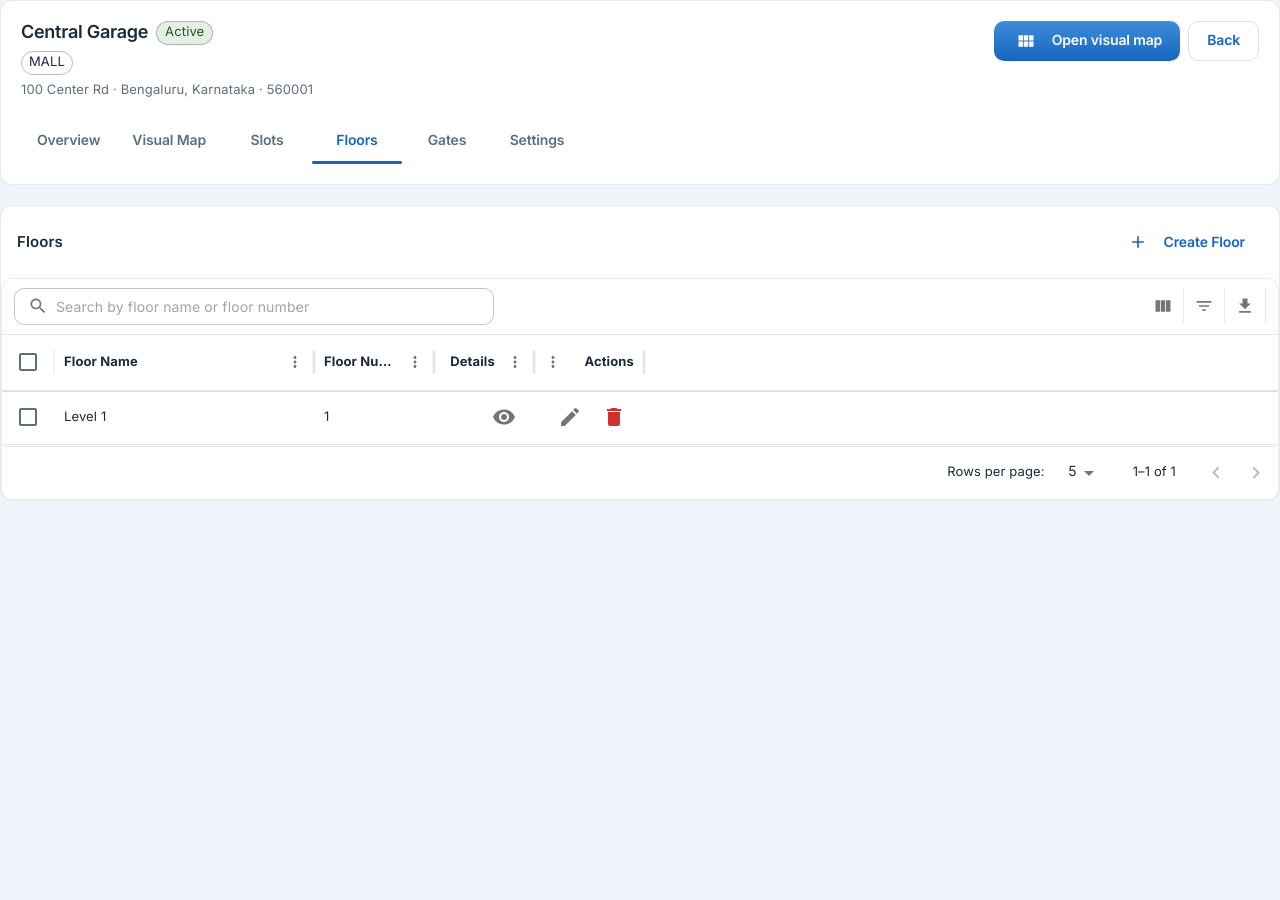
ParkingLotDetailsPage › deletes a floor on floors tab
Expected: the text "Level 1" is shown, [64,409,106,425]
Click the button named "delete": (614, 417) [594,397,634,437]
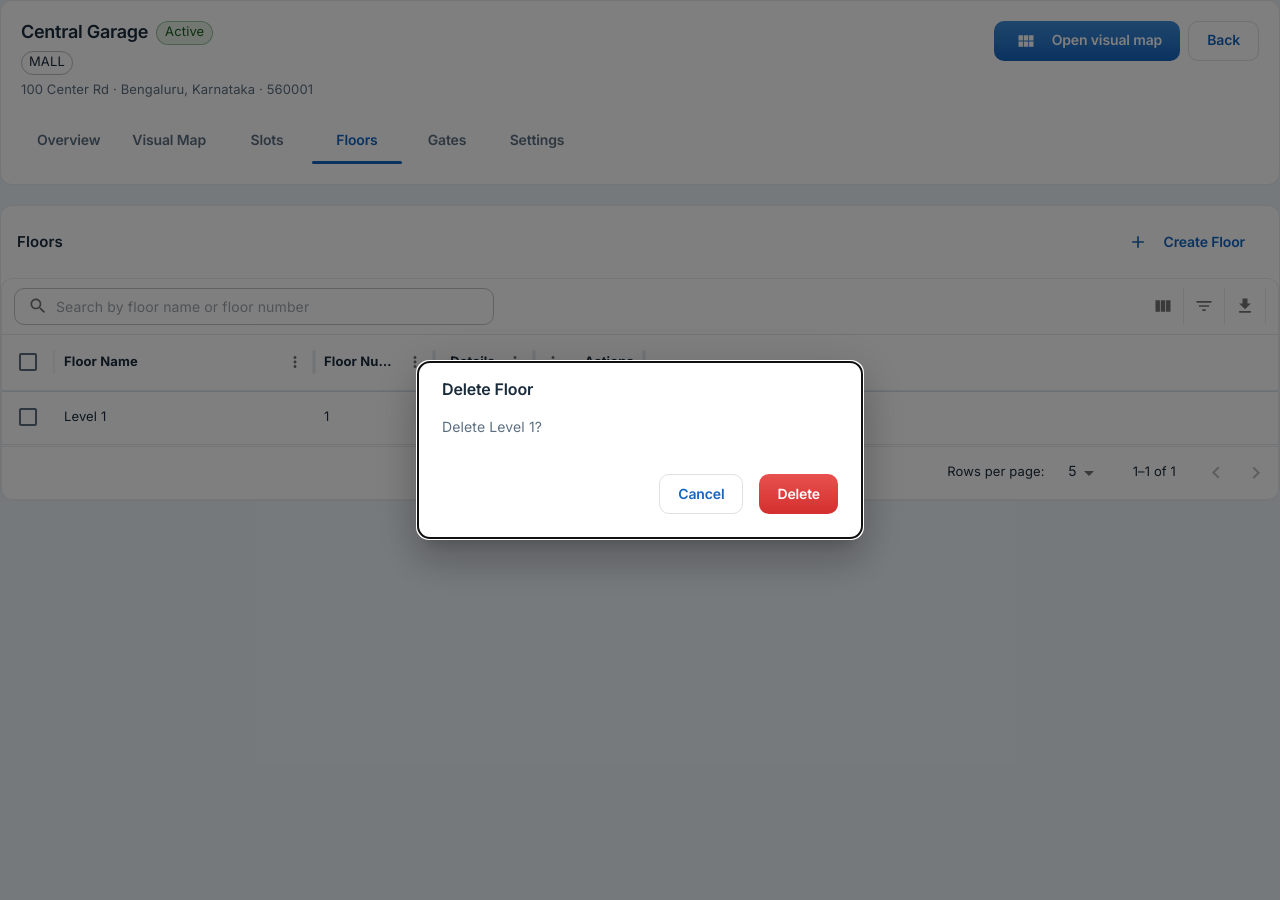
Click the button "Delete": (799, 494) [759,474,838,514]
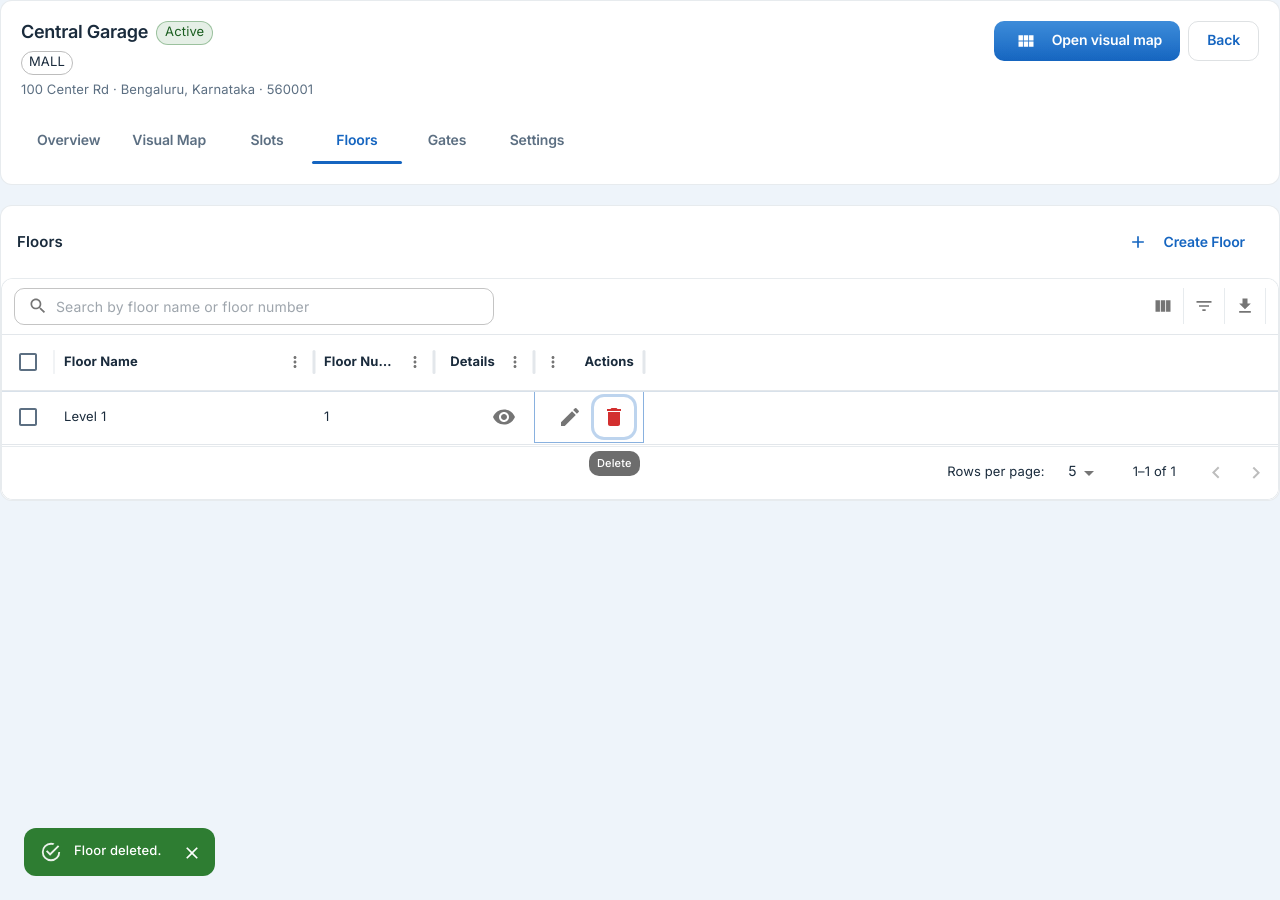
Expected: the text "Floor deleted." is shown, [74,843,162,859]
